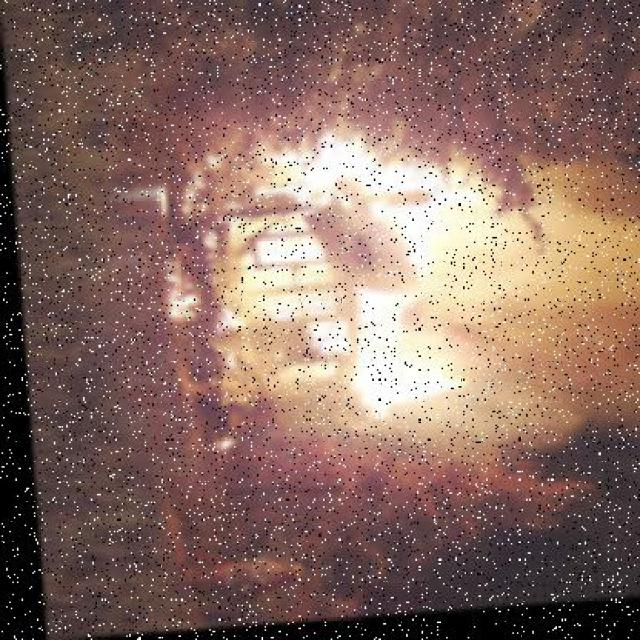fire: (178, 133, 472, 437)
